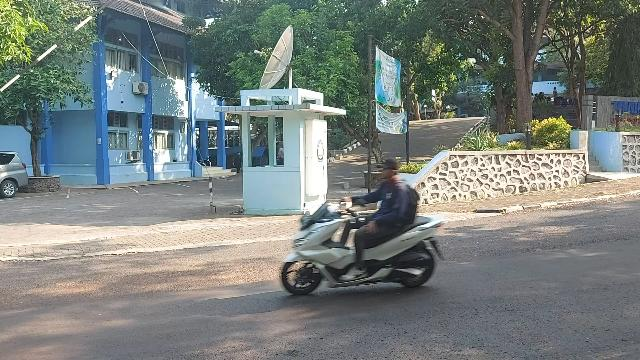motor: (282, 200, 446, 296)
non-helm: (378, 159, 399, 179)
